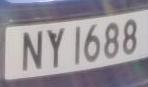1: (70, 22, 85, 70)
6: (82, 20, 103, 69)
8: (120, 16, 140, 62), (102, 18, 121, 65)
N: (20, 27, 45, 78)
Y: (45, 24, 69, 75)
